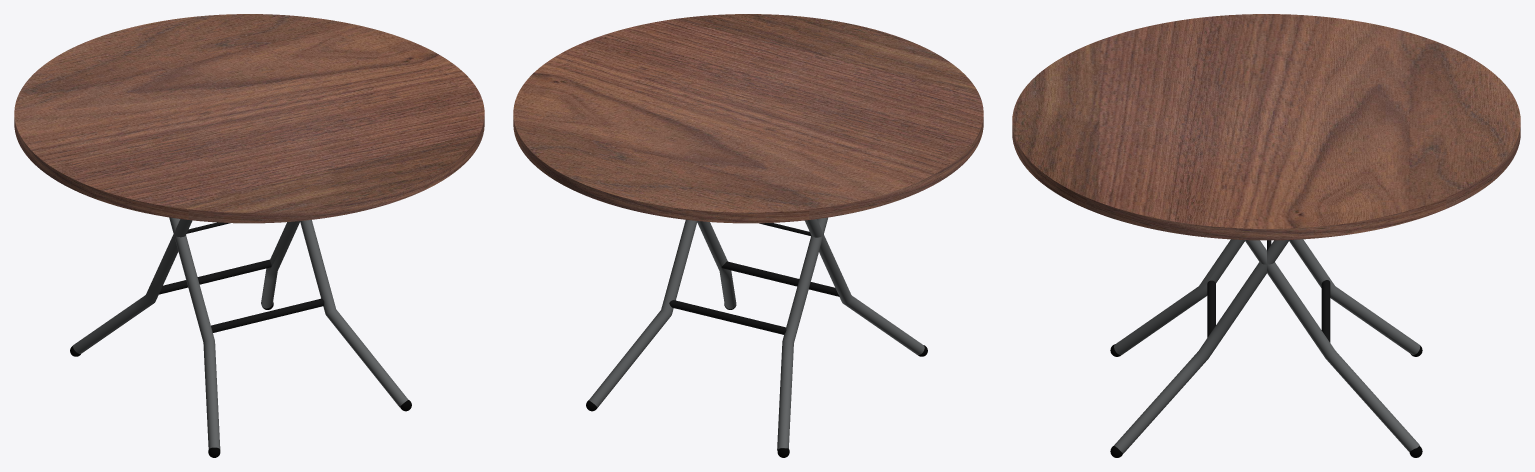
The model's file is mesa.fbx.
The picture shows the model from 3 angles, left to right: view 1: azimuth 30°, elevation 25°; view 2: azimuth 150°, elevation 25°; view 3: azimuth 270°, elevation 25°; orthographic projection. The views are drawn at different scales.
Visible parts, largest first — view 1: Cylinder002, Loft003; view 2: Cylinder002, Loft003; view 3: Cylinder002, Loft003.
Boxes of the visible parts, x1,y1,x2,y2 form: Cylinder002: [14, 14, 484, 223]; Loft003: [73, 217, 408, 449]; Cylinder002: [513, 14, 983, 223]; Loft003: [589, 217, 924, 450]; Cylinder002: [1012, 14, 1520, 240]; Loft003: [1114, 239, 1420, 453].
Size of the model in its own units: 120 by 75.46 by 120.
